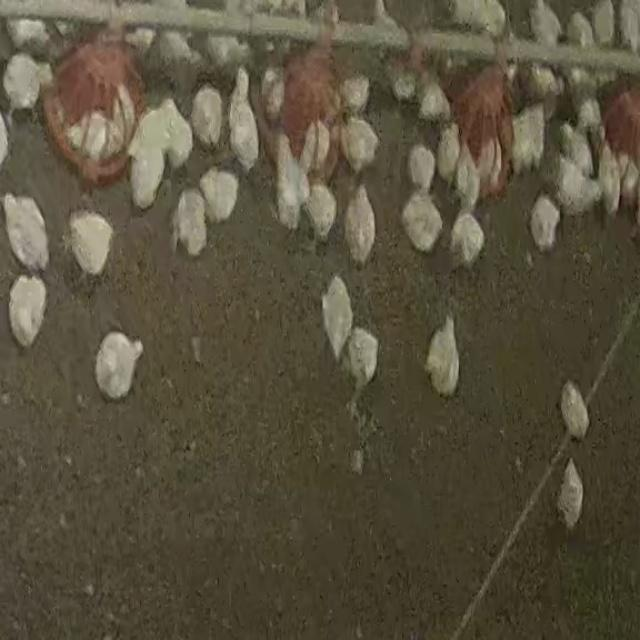chicken: (127, 99, 195, 208), (65, 206, 115, 297), (92, 328, 146, 404), (1, 192, 51, 274), (227, 71, 263, 172), (424, 313, 463, 399), (6, 273, 49, 350), (342, 184, 378, 269), (320, 276, 354, 363), (68, 108, 122, 162), (400, 191, 446, 254), (1, 50, 46, 114), (339, 115, 382, 177), (555, 376, 595, 442), (274, 140, 304, 225), (507, 106, 545, 173), (197, 169, 241, 225), (174, 188, 208, 258), (344, 326, 380, 392), (190, 83, 225, 149), (449, 208, 487, 268), (303, 181, 338, 243), (556, 458, 586, 530), (130, 144, 163, 209), (530, 194, 562, 253), (453, 138, 479, 204), (436, 123, 463, 185), (407, 141, 437, 192), (417, 77, 451, 122), (596, 144, 618, 213), (339, 73, 372, 115), (298, 121, 320, 176)
